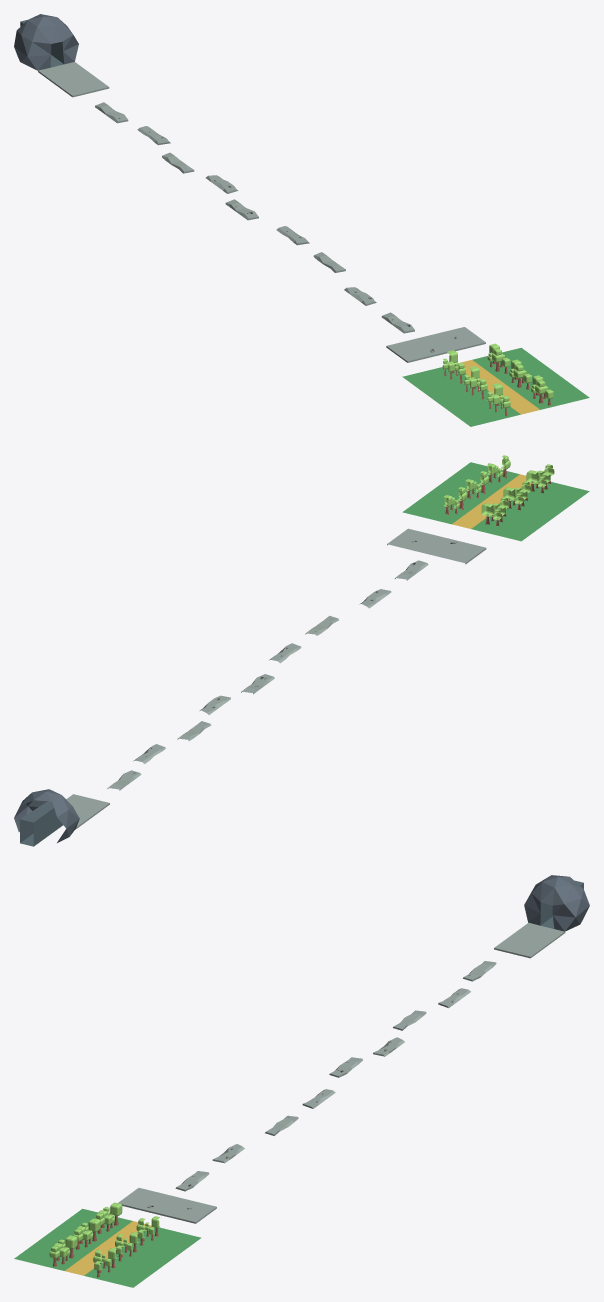
The model's file is road3.fbx.
The picture shows the model from 3 angles, top to bottom: view 1: azimuth 30°, elevation 25°; view 2: azimuth 150°, elevation 25°; view 3: azimuth 330°, elevation 25°; orthographic projection.
Parts seen in each view (by area): view 1: Plane.002, Вход в пещеру.001, Деревья2.002, Начало платформы.003, Начало платформы.004, Платформа 1.001, Платформа 1.004; view 2: Plane.002, Вход в пещеру.001, Деревья2.002, Начало платформы.003, Платформа 1.004, Платформа 1.001, Начало платформы.004; view 3: Plane.002, Вход в пещеру.001, Деревья2.002, Начало платформы.003, Начало платформы.004, Платформа 1.001, Платформа 1.004.
Part boxes in pixels (box(x1,y1,x2,y2)): Plane.002: box(402, 347, 589, 426); Вход в пещеру.001: box(14, 14, 78, 70); Деревья2.002: box(442, 343, 553, 416); Начало платформы.003: box(386, 327, 485, 362); Начало платформы.004: box(38, 62, 109, 97); Платформа 1.001: box(137, 126, 258, 220); Платформа 1.004: box(276, 226, 414, 333); Plane.002: box(402, 462, 589, 541); Вход в пещеру.001: box(14, 789, 79, 846); Деревья2.002: box(444, 455, 554, 525); Начало платформы.003: box(387, 528, 486, 564); Платформа 1.004: box(269, 560, 428, 663); Платформа 1.001: box(134, 674, 274, 763); Начало платформы.004: box(66, 794, 109, 829); Plane.002: box(14, 1208, 201, 1287); Вход в пещеру.001: box(524, 875, 589, 931); Деревья2.002: box(49, 1202, 159, 1277); Начало платформы.003: box(118, 1188, 216, 1223); Начало платформы.004: box(494, 922, 565, 958); Платформа 1.001: box(329, 988, 470, 1077); Платформа 1.004: box(175, 1089, 335, 1191).
Bounding box in the file's own units: 34218 × 11700 × 250010.
